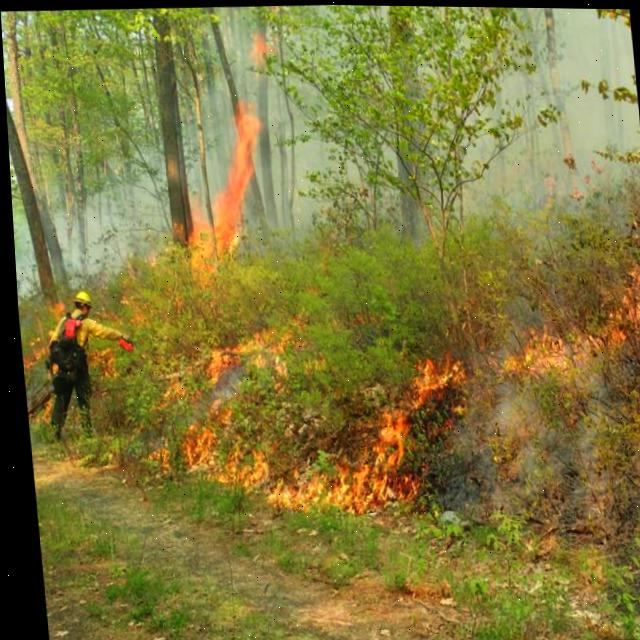fire: (183, 390, 427, 502), (502, 319, 618, 382)
smoke: (445, 6, 640, 208), (186, 4, 348, 235), (9, 141, 164, 300), (446, 389, 576, 511)
